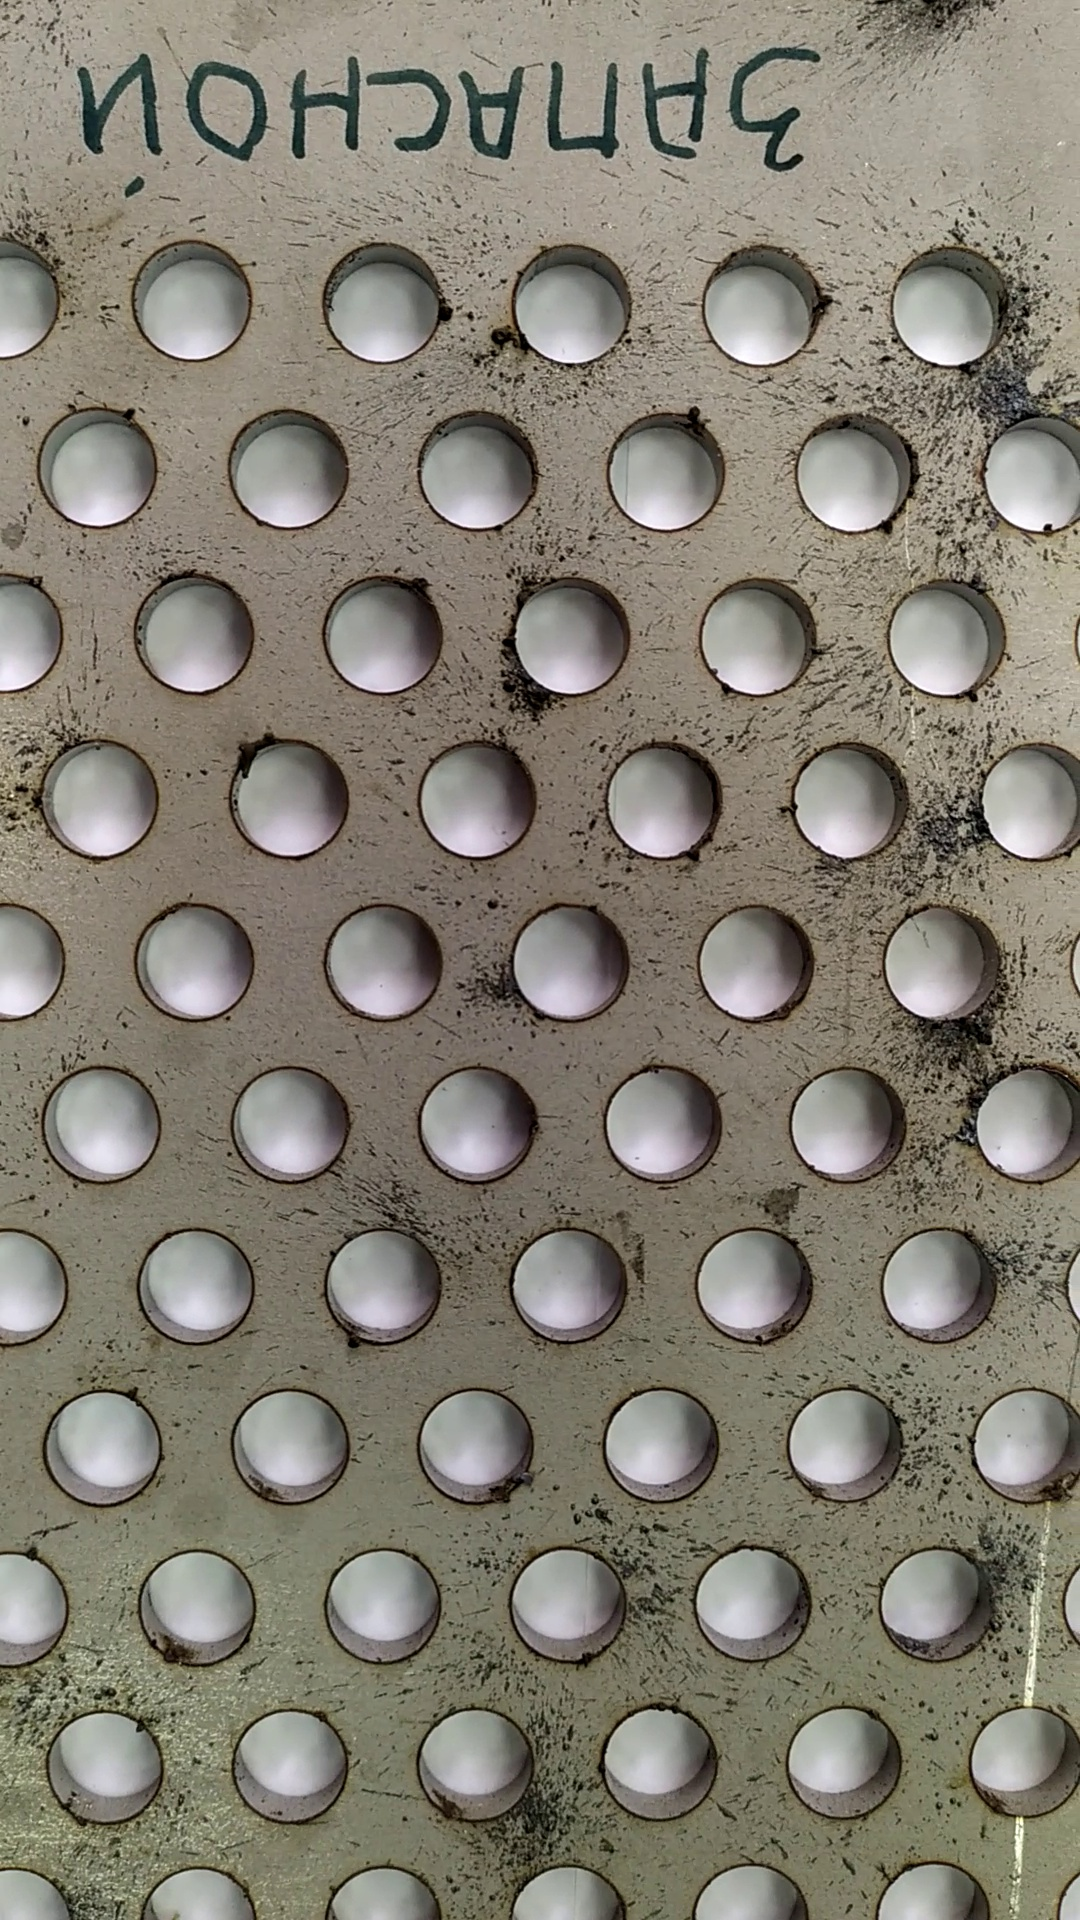Hole: (492, 219, 649, 377), (306, 233, 473, 373), (404, 397, 553, 545), (578, 1691, 735, 1824), (593, 396, 740, 538), (773, 1379, 924, 1515), (112, 232, 266, 364), (302, 570, 454, 702), (20, 400, 173, 530), (884, 233, 1025, 375), (32, 1050, 173, 1191), (398, 731, 547, 864), (502, 891, 641, 1034), (779, 405, 924, 541), (216, 723, 355, 864), (592, 735, 731, 876), (869, 1215, 1011, 1352), (591, 1379, 735, 1515), (218, 400, 365, 531), (876, 881, 1007, 1029), (775, 1687, 914, 1826), (398, 1695, 543, 1828), (218, 1381, 367, 1509), (692, 236, 829, 375), (24, 727, 164, 862), (869, 1532, 1006, 1669), (127, 564, 262, 703), (876, 568, 1011, 705), (36, 1379, 173, 1515), (310, 1222, 451, 1354), (216, 1060, 359, 1191), (214, 1702, 363, 1826), (495, 568, 632, 703), (687, 566, 825, 699), (120, 897, 262, 1026), (775, 732, 910, 868), (688, 893, 829, 1022), (127, 1217, 261, 1352), (506, 1220, 641, 1354), (313, 897, 451, 1026), (496, 1538, 632, 1668), (691, 1217, 822, 1352), (410, 1058, 541, 1191), (688, 1534, 818, 1668), (592, 1060, 731, 1185), (410, 1379, 541, 1511), (318, 1544, 455, 1669), (45, 1698, 177, 1828), (124, 1542, 261, 1664), (785, 1060, 906, 1189), (965, 1693, 1080, 1828)
